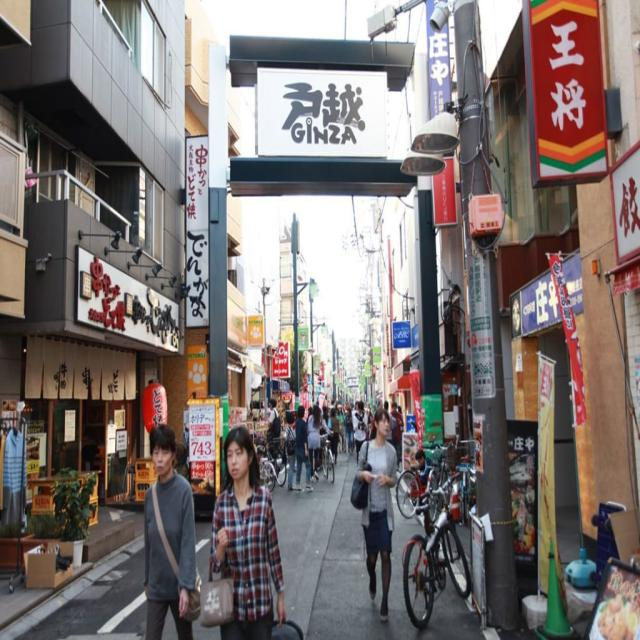body: (195, 421, 288, 639), (142, 420, 204, 639), (352, 403, 400, 626), (306, 404, 334, 484), (293, 404, 315, 494), (338, 399, 376, 431), (389, 400, 405, 466), (352, 400, 367, 467), (284, 410, 296, 493), (326, 406, 340, 466), (414, 448, 434, 480), (382, 400, 396, 445), (267, 398, 282, 439), (344, 406, 356, 456), (335, 403, 345, 455), (397, 402, 408, 422), (306, 401, 315, 422)
